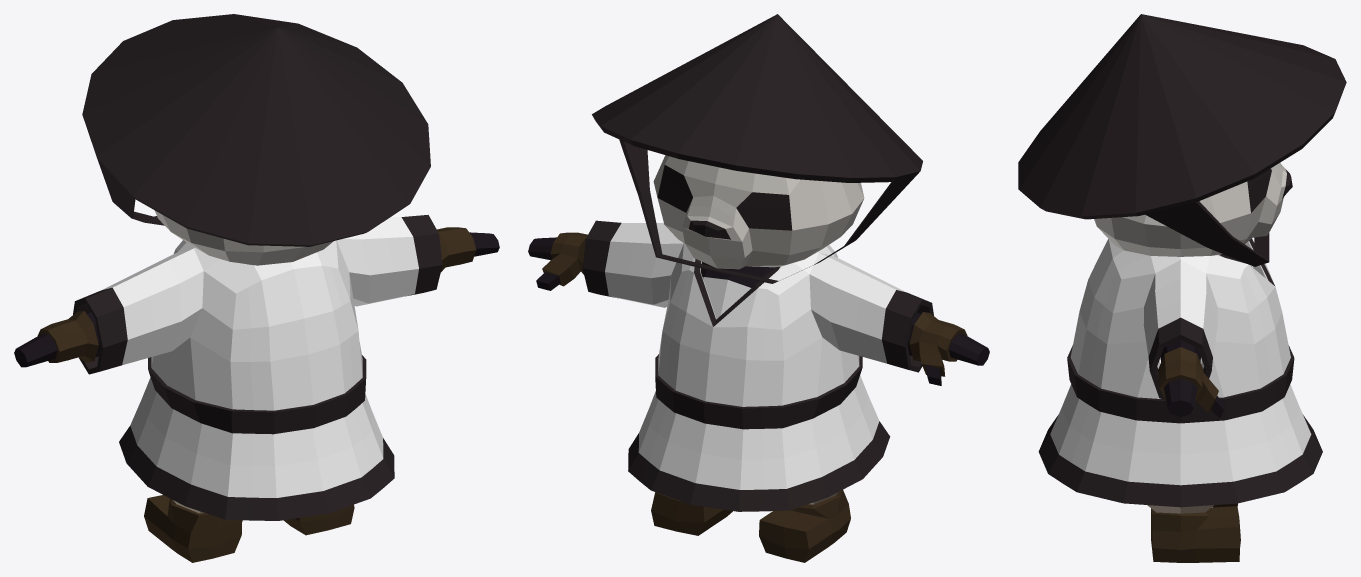
The model's file is lowpolypanda.fbx.
The picture shows the model from 3 angles, left to right: view 1: azimuth 30°, elevation 25°; view 2: azimuth 150°, elevation 25°; view 3: azimuth 270°, elevation 25°; orthographic projection. The views are drawn at different scales.
Visible parts, largest first — view 1: Cube.002, Cone, Cube.007, Cube.004, Cube, Cube.005, Cube.001, Cube.006, Cube.003; view 2: Cube.002, Cone, Cube, Cube.007, Cube.004, Cube.001, Cube.005, Cube.003, Cube.006; view 3: Cube.002, Cone, Cube, Cube.007, Cube.003, Cube.001, Cube.006.
Boxes of the visible parts, x1,y1,x2,y2 form: Cube.002: (73, 214, 442, 520); Cone: (82, 14, 430, 246); Cube.007: (148, 355, 366, 434); Cube.004: (144, 495, 242, 562); Cube: (154, 210, 333, 265); Cube.005: (37, 311, 98, 362); Cube.001: (14, 232, 499, 513); Cube.006: (437, 227, 476, 272); Cube.003: (284, 504, 354, 535); Cube.002: (582, 220, 933, 511); Cone: (592, 14, 922, 283); Cube: (653, 155, 864, 269); Cube.007: (655, 354, 862, 429); Cube.004: (759, 490, 850, 562); Cube.001: (528, 237, 989, 504); Cube.005: (909, 312, 967, 376); Cube.003: (651, 492, 732, 535); Cube.006: (542, 232, 587, 286); Cube.002: (1038, 238, 1322, 507); Cone: (1018, 14, 1346, 266); Cube: (1094, 163, 1292, 256); Cube.007: (1067, 345, 1294, 423); Cube.003: (1151, 506, 1240, 562); Cube.001: (1147, 254, 1253, 513); Cube.006: (1157, 347, 1218, 412).
Size of the model in its own units: 464 by 490 by 285.
